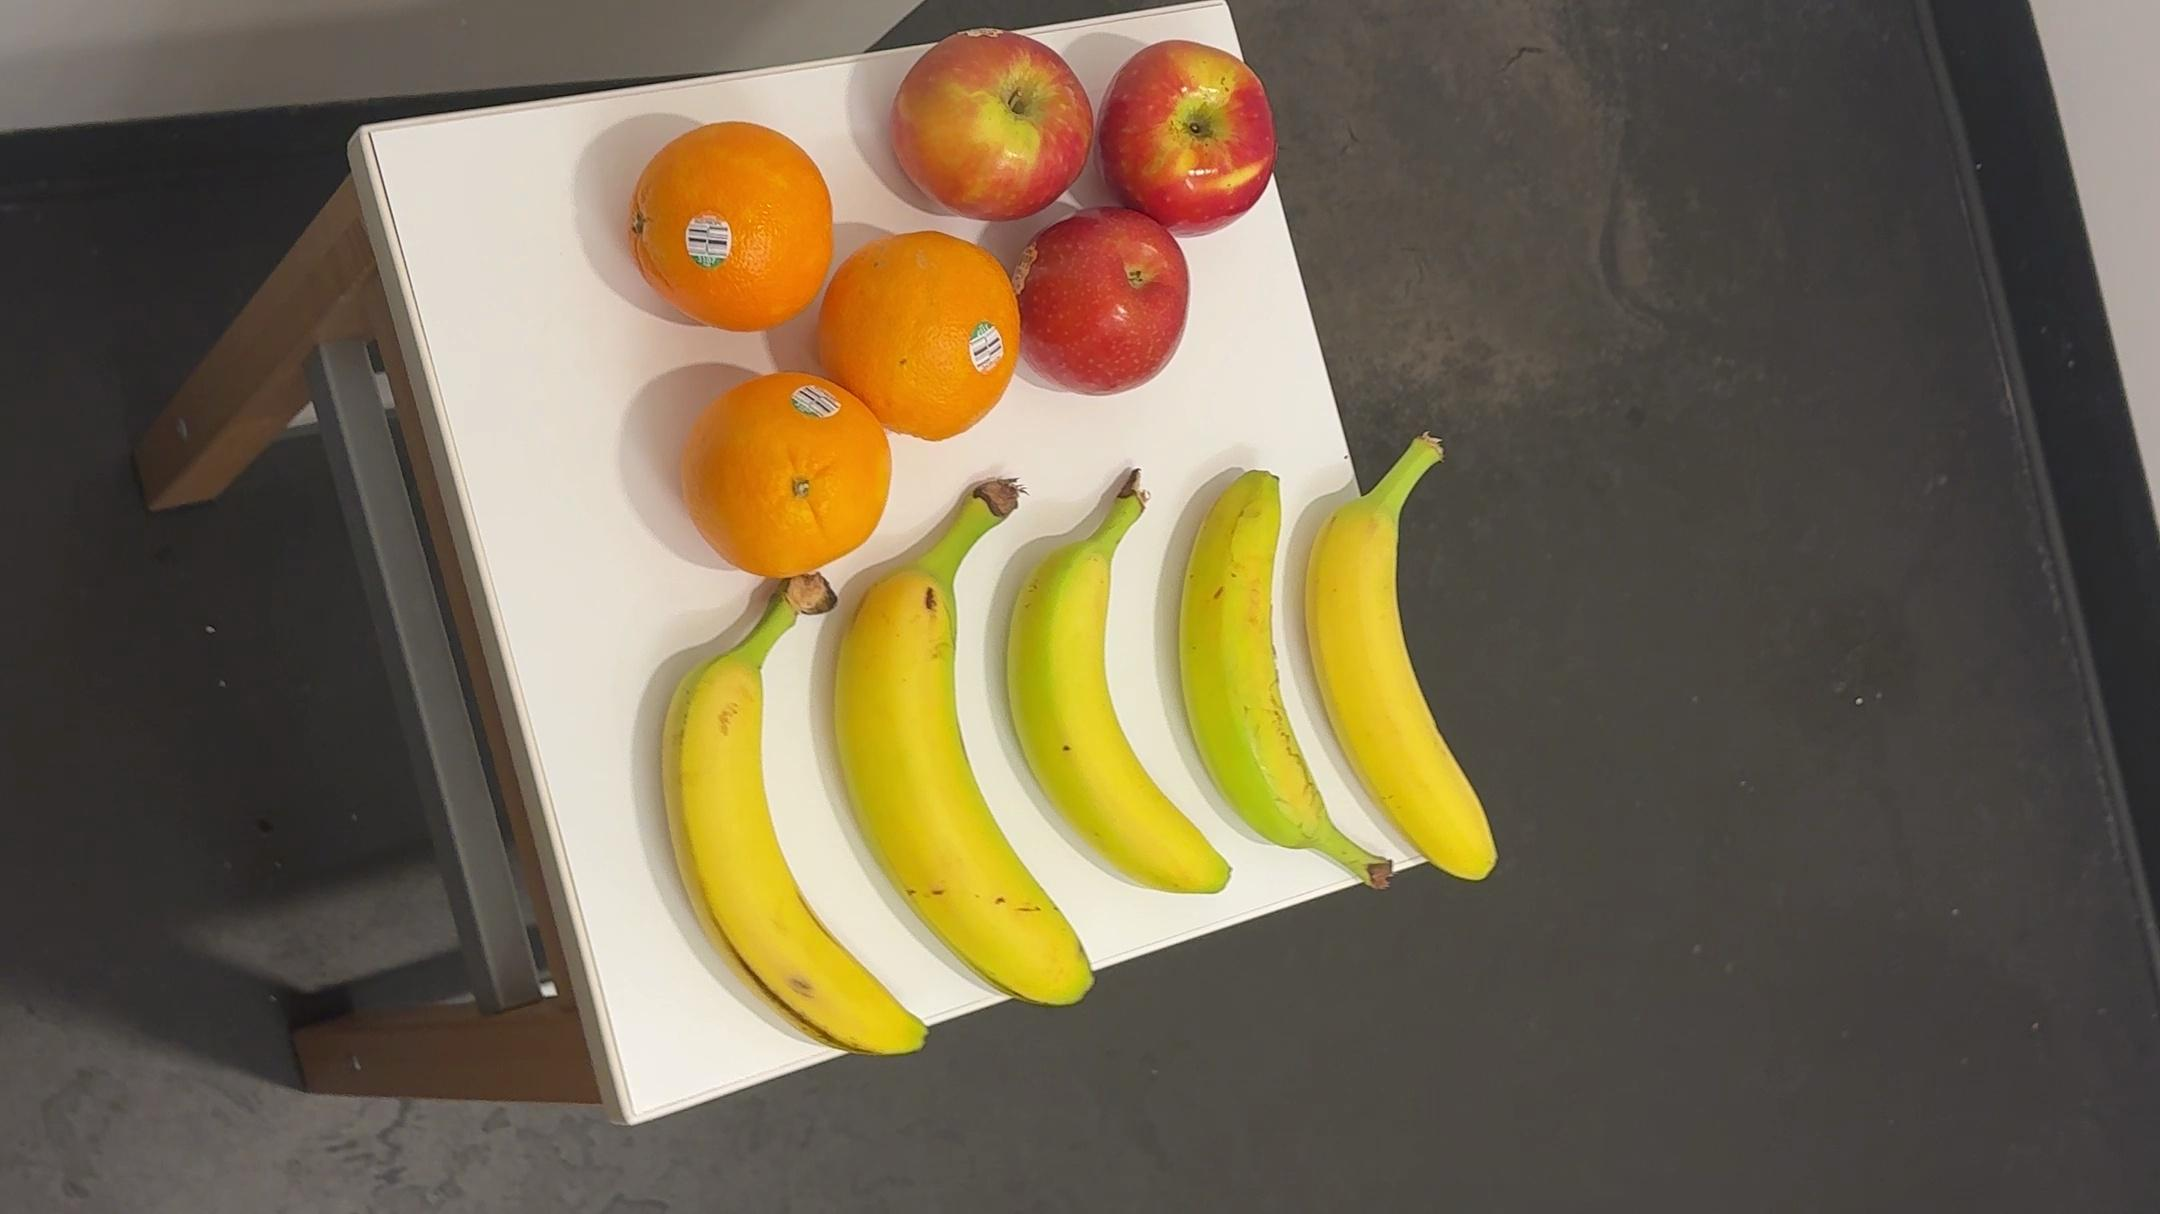apple: (892, 22, 1092, 223), (1019, 214, 1197, 396), (1107, 43, 1279, 226)
banana: (837, 473, 1099, 1012), (656, 574, 942, 1060), (1295, 435, 1522, 905), (1009, 462, 1234, 913), (1170, 457, 1395, 898)
orange: (679, 365, 889, 585), (825, 229, 1024, 453), (633, 122, 829, 347)
